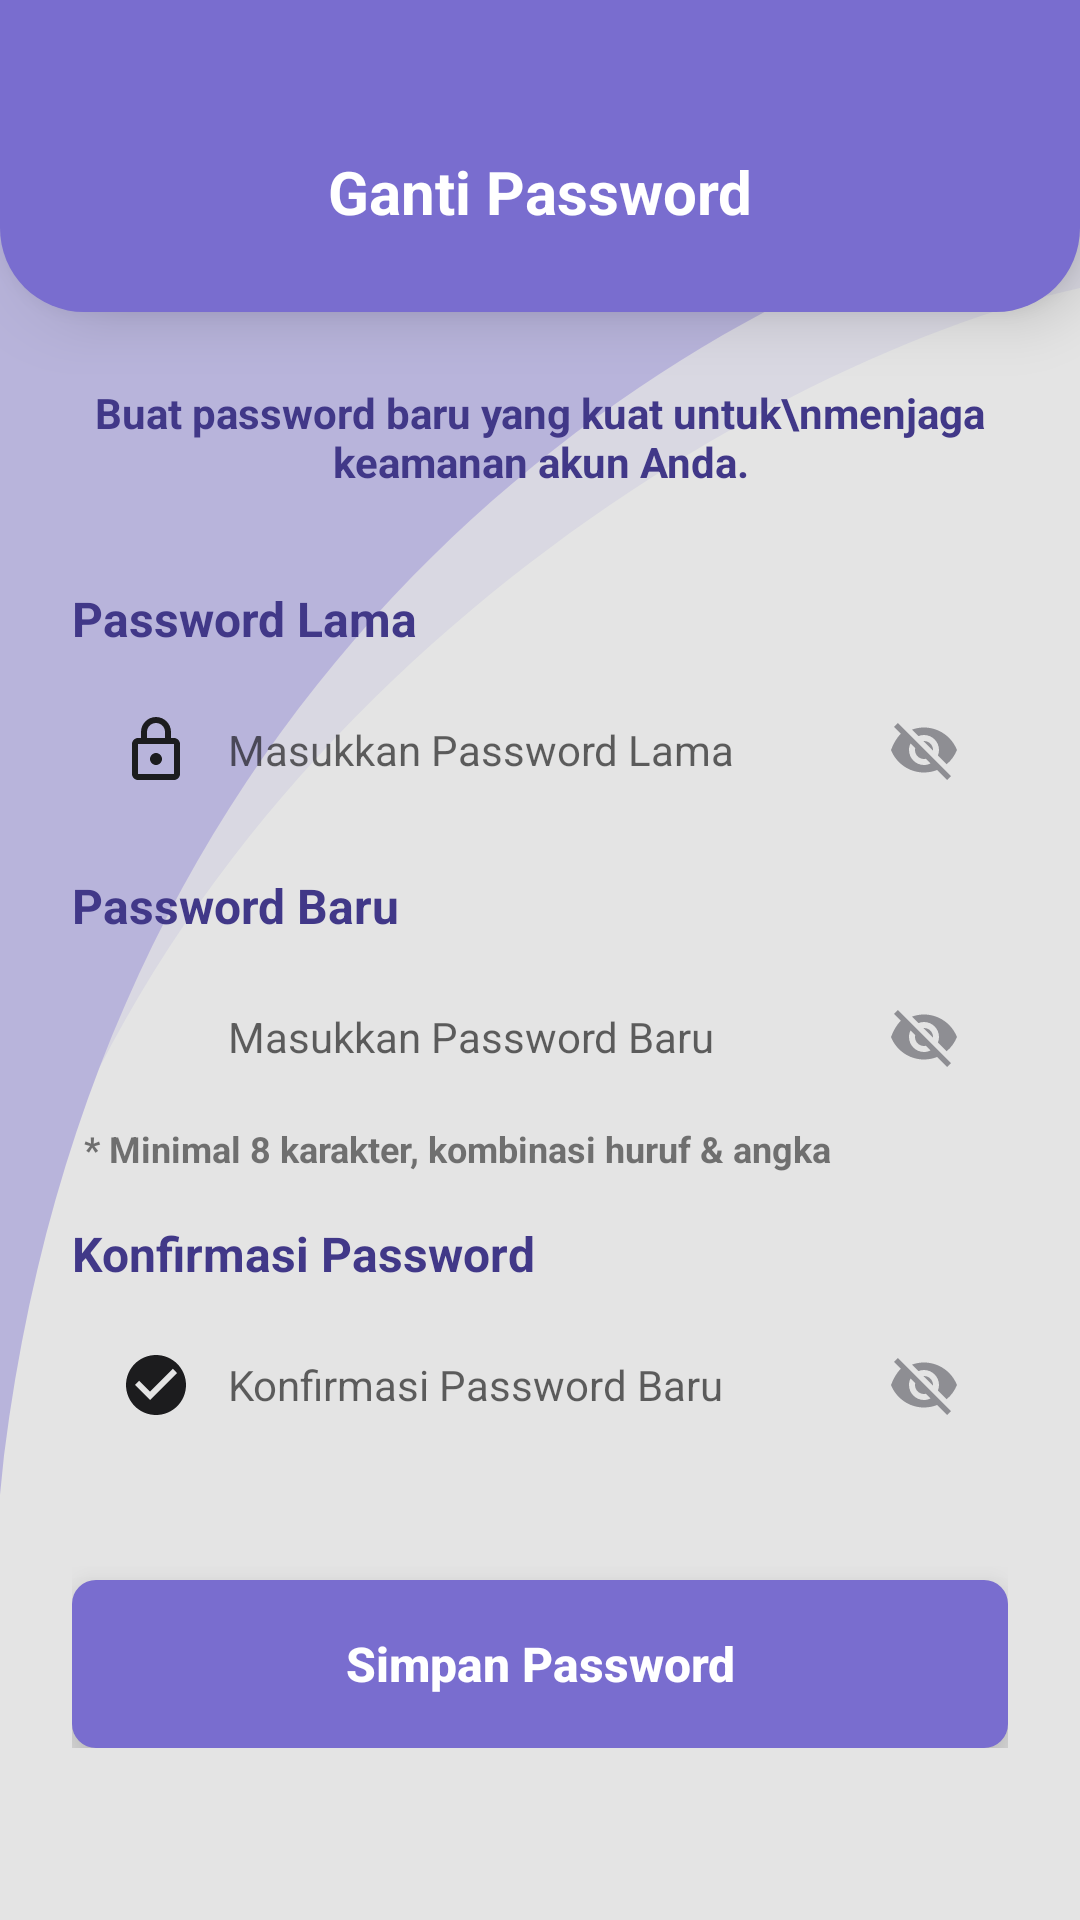

Screen size 1080px x 1920px. Icon name, then its center in pixels as [x,y]:
check circle: [156,1385]
lock: [156,748]
visibility off: [924,751], [924,1038], [924,1386]
